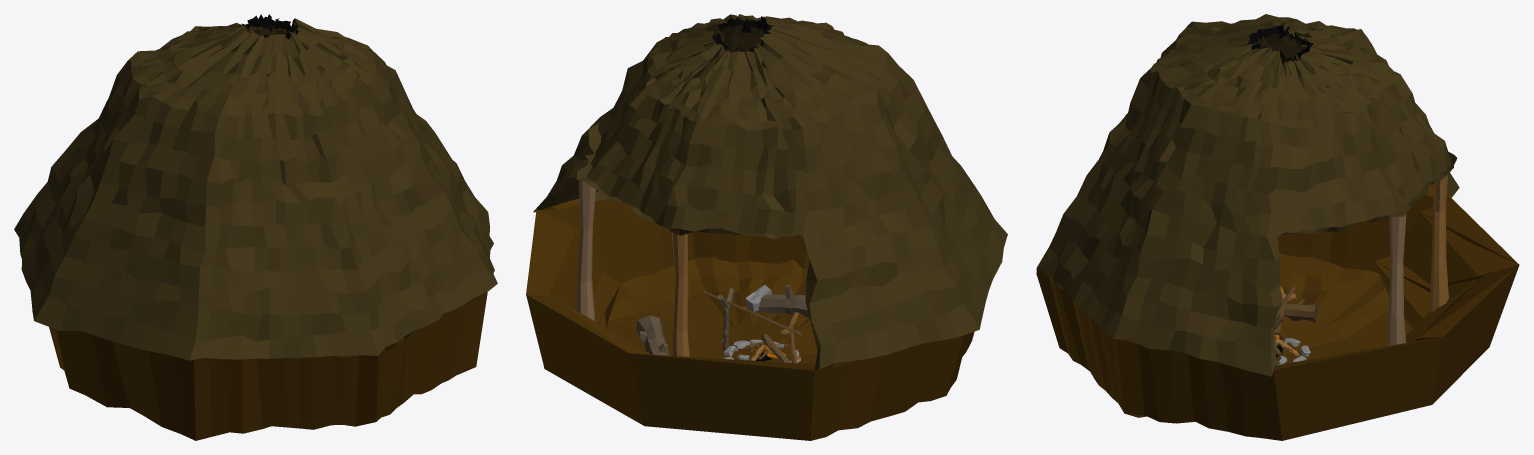
File: SNOW TENT without snow.fbx
3 renders of one model, left to right at view 1: azimuth 30°, elevation 25°; view 2: azimuth 150°, elevation 25°; view 3: azimuth 270°, elevation 25°, orthographic.
Visible parts, largest first — view 1: Sphere; view 2: Sphere, Cylinder, Cylinder.001, Cylinder.010; view 3: Sphere, Cylinder, Cylinder.010, Cylinder.001.
Part boxes in pixels (<box>): Sphere: <box>14,14,497,440</box>; Sphere: <box>526,14,1007,440</box>; Cylinder: <box>576,180,596,320</box>; Cylinder.001: <box>636,284,809,355</box>; Cylinder.010: <box>671,207,689,356</box>; Sphere: <box>1036,14,1519,440</box>; Cylinder: <box>1387,214,1406,345</box>; Cylinder.010: <box>1429,175,1448,312</box>; Cylinder.001: <box>1283,299,1317,322</box>.
Size of the model in its own units: 867 by 628 by 815.
